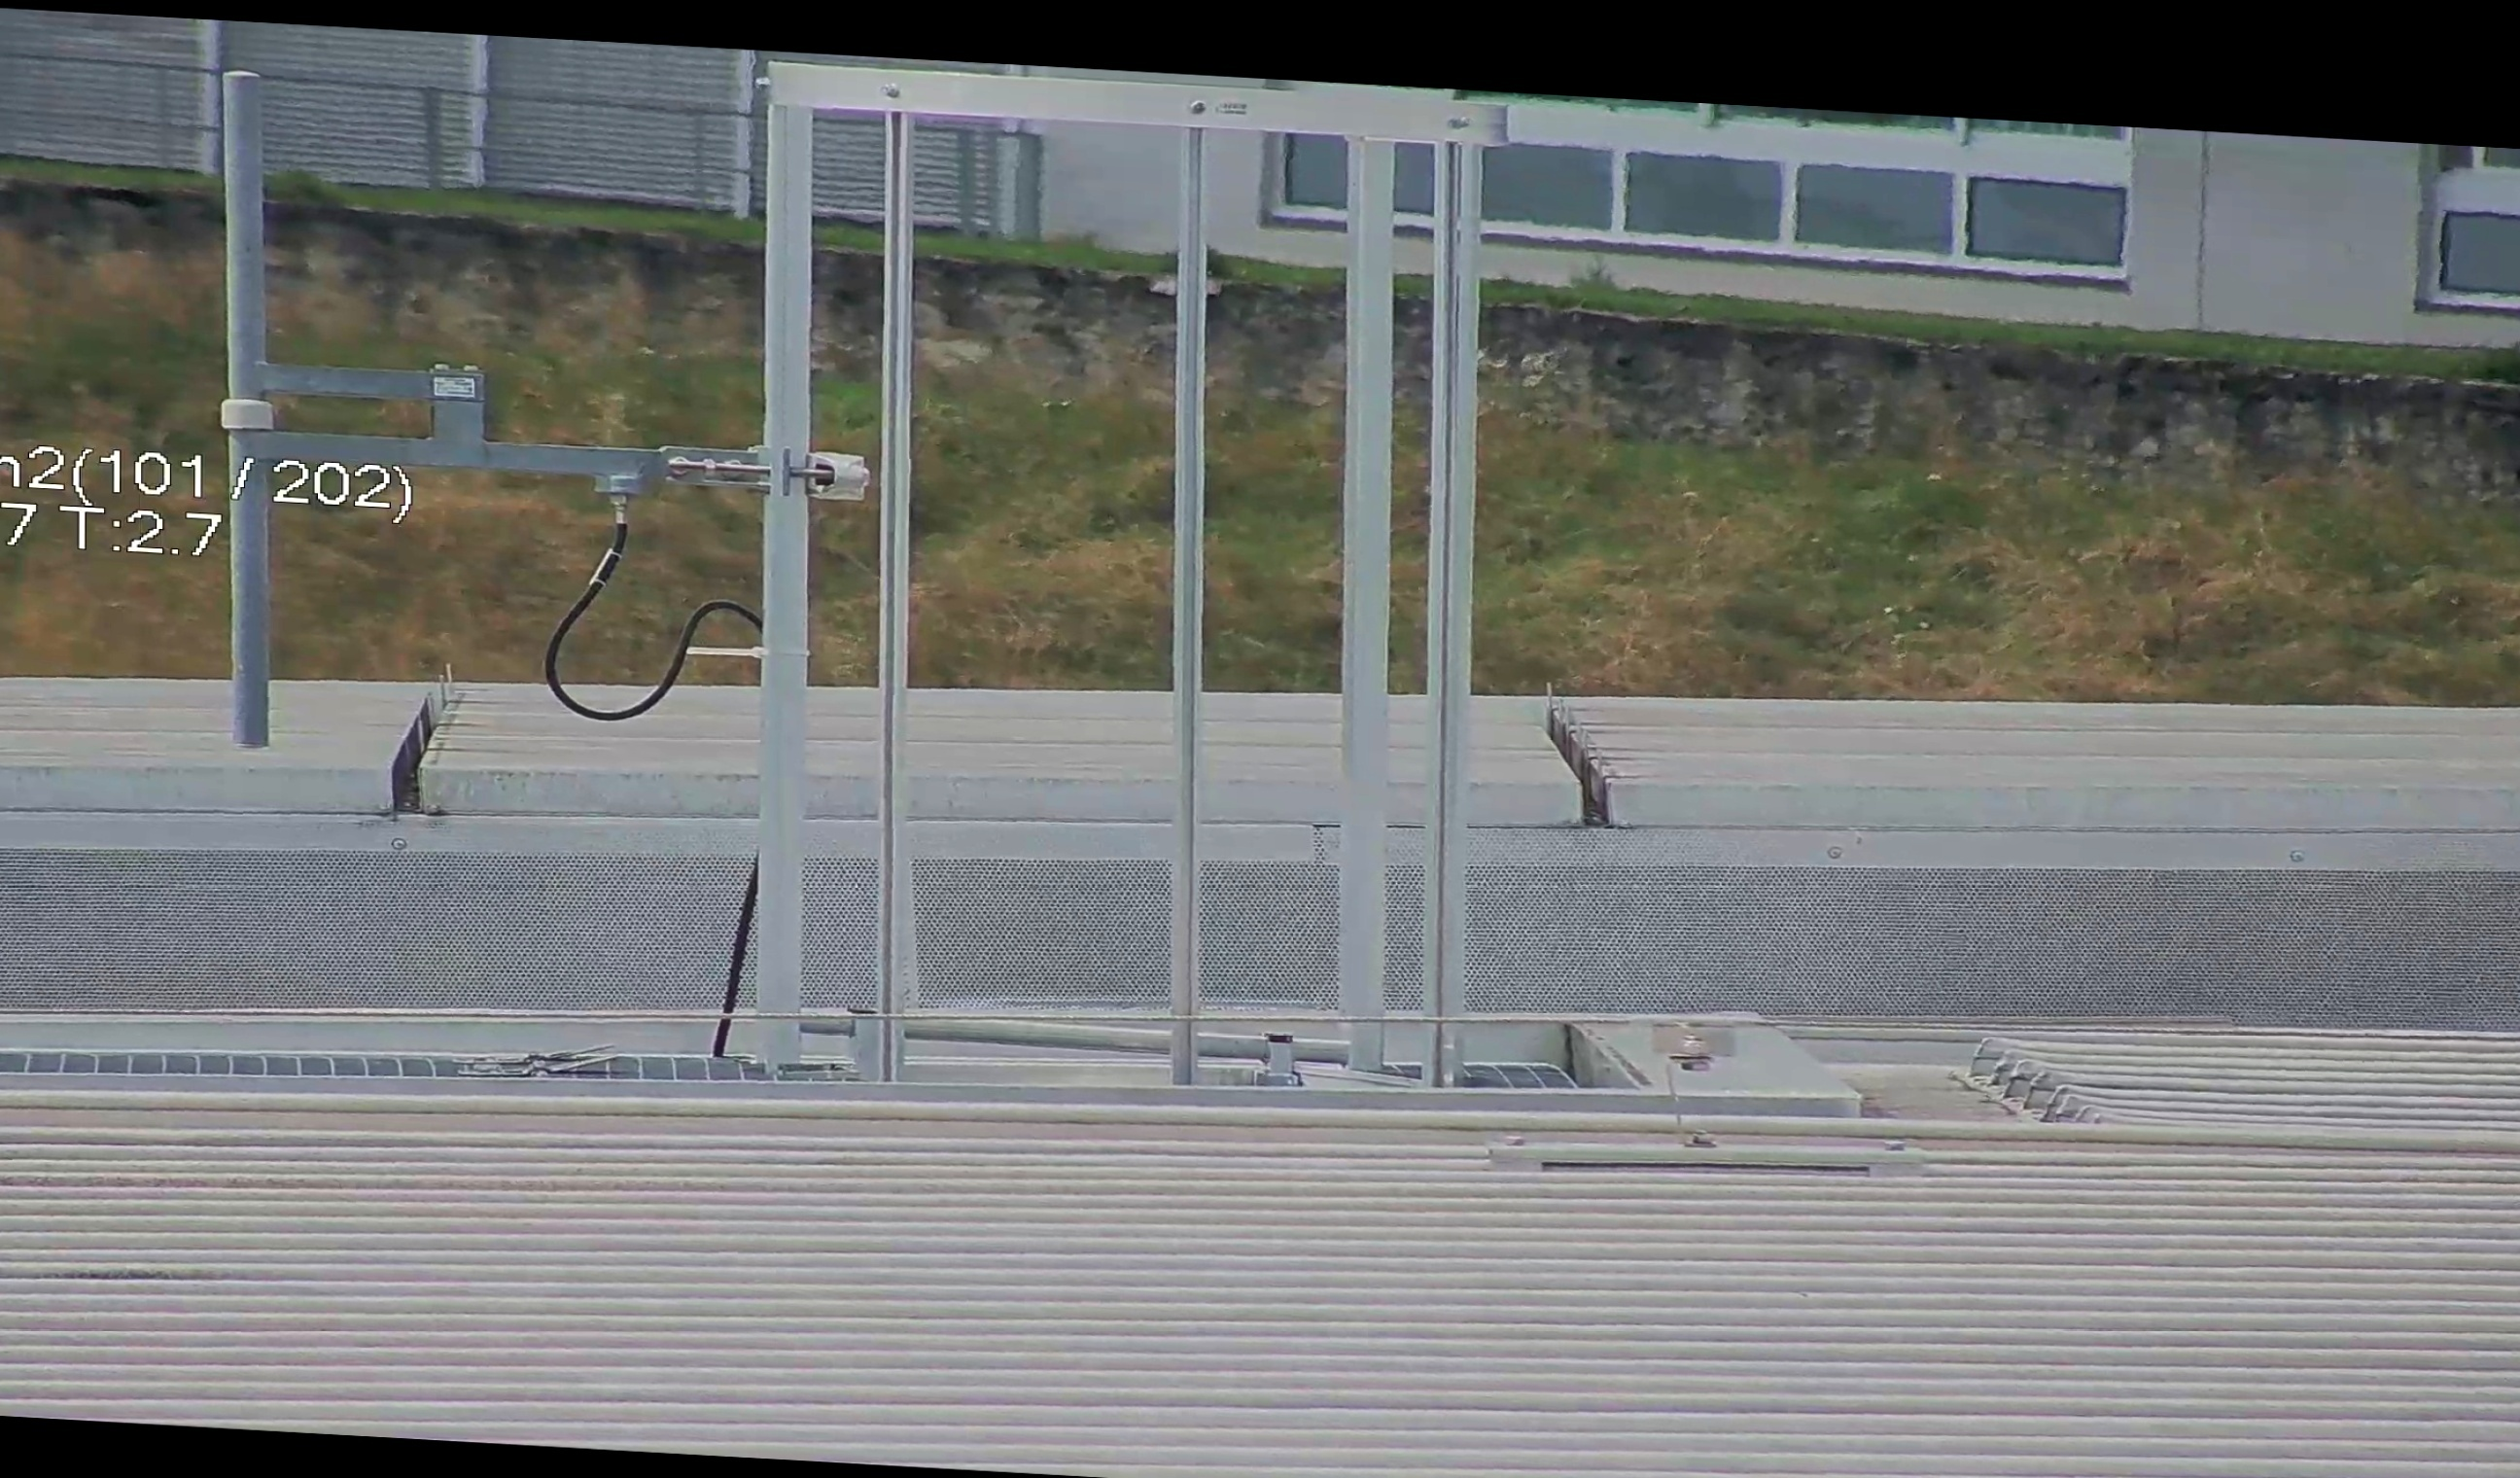Other: (1533, 677, 1648, 836)
